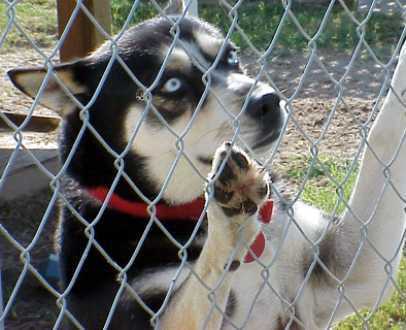dog: (8, 15, 405, 329)
